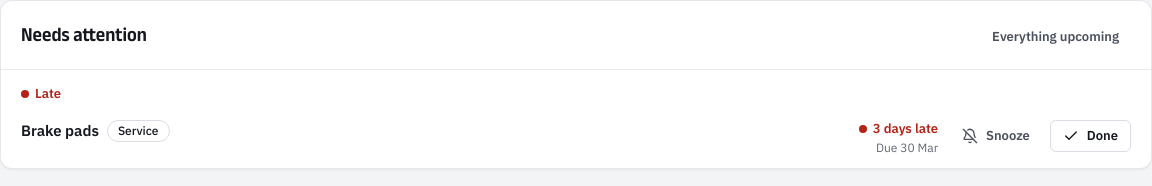
AttentionQueue › keeps the row disabled after success and announces the completion
This screenshot has width=1152, height=186.
Click the button with aria-label "Mark Brake pads done": point(1090, 136) [1050,120,1131,152]
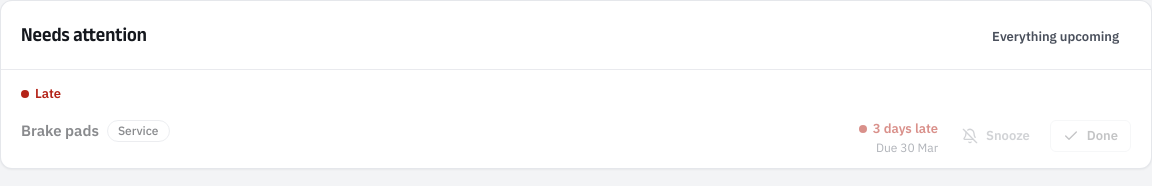
Result: the button with aria-label "Mark Brake pads done" is disabled at [1050,120,1131,152]
